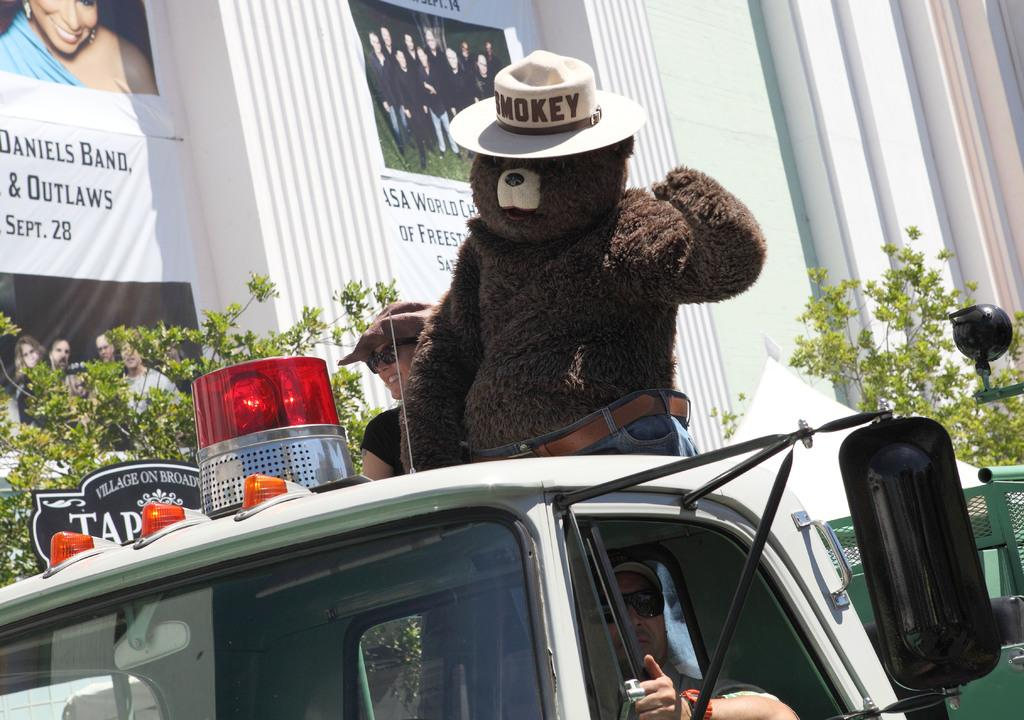Hat: (444, 48, 646, 159), (578, 549, 664, 587)
